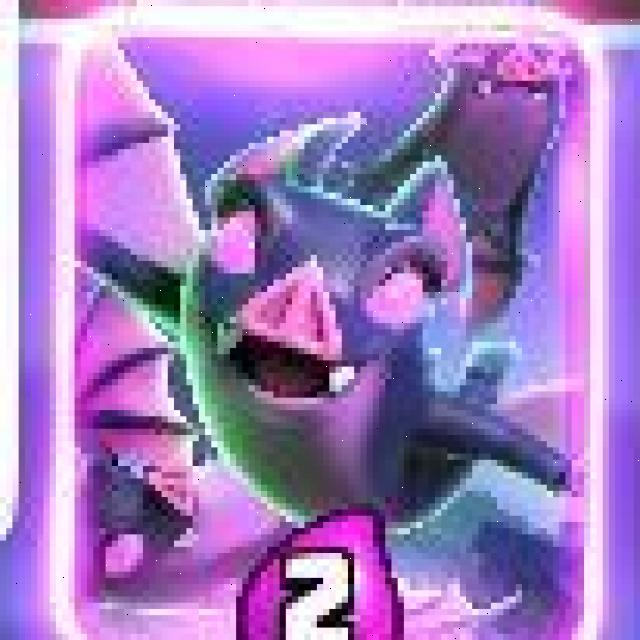Evolved_Bats: (55, 6, 610, 640)
